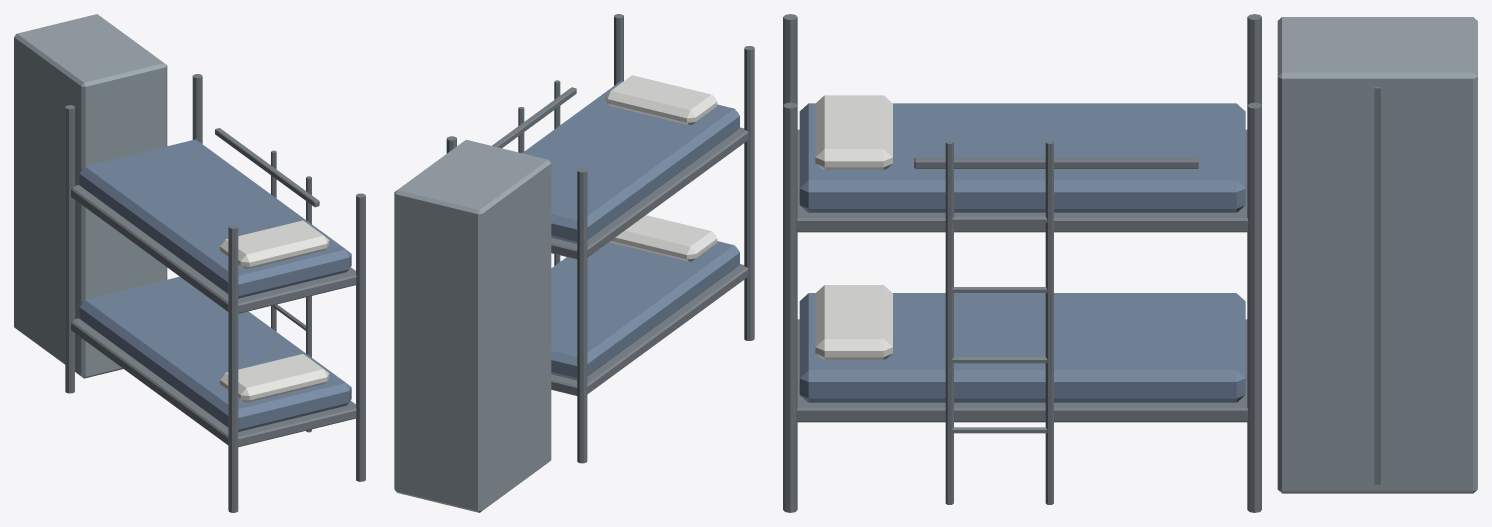
Rendered from ship_bunk_unit.glb.
3 renders of one model, left to right at view 1: azimuth 30°, elevation 25°; view 2: azimuth 150°, elevation 25°; view 3: azimuth 270°, elevation 25°, orthographic. The views are drawn at different scales.
Visible parts, largest first — view 1: Locker, Matt_1.38, Matt_0.46, BedBase_0.46, BedBase_1.38, Post_-0.46_-1.02, Pillow_0.46, Pillow_1.38, Post_0.46_-1.02, Post_-0.46_1.02, GuardRail, Post_0.46_1.02 (+1 smaller); view 2: Locker, Matt_1.38, Matt_0.46, BedBase_1.38, BedBase_0.46, Pillow_1.38, Post_-0.46_1.02, Post_-0.46_-1.02, Pillow_0.46, GuardRail, Post_0.46_-1.02; view 3: Locker, Matt_0.46, Matt_1.38, BedBase_0.46, BedBase_1.38, Post_0.46_-1.02, Post_0.46_1.02, Pillow_0.46, Pillow_1.38, LadR_-0.32, LadR_0.12, GuardRail (+3 smaller).
Boxes of the visible parts, x1=… form: Locker: x1=14, y1=14, x2=167, y2=378; Matt_1.38: x1=79, y1=139, x2=351, y2=298; Matt_0.46: x1=79, y1=276, x2=351, y2=431; BedBase_0.46: x1=71, y1=318, x2=356, y2=447; BedBase_1.38: x1=71, y1=185, x2=356, y2=313; Post_-0.46_-1.02: x1=228, y1=224, x2=238, y2=512; Pillow_0.46: x1=220, y1=354, x2=329, y2=402; Pillow_1.38: x1=220, y1=220, x2=329, y2=269; Post_0.46_-1.02: x1=356, y1=193, x2=365, y2=481; Post_-0.46_1.02: x1=65, y1=105, x2=74, y2=393; GuardRail: x1=215, y1=128, x2=319, y2=207; Post_0.46_1.02: x1=192, y1=74, x2=202, y2=143; Locker: x1=394, y1=139, x2=551, y2=512; Matt_1.38: x1=522, y1=81, x2=739, y2=243; Matt_0.46: x1=551, y1=241, x2=739, y2=380; BedBase_1.38: x1=551, y1=127, x2=748, y2=259; BedBase_0.46: x1=551, y1=264, x2=748, y2=395; Pillow_1.38: x1=605, y1=75, x2=717, y2=124; Post_-0.46_1.02: x1=577, y1=168, x2=587, y2=463; Post_-0.46_-1.02: x1=744, y1=46, x2=754, y2=340; Pillow_0.46: x1=609, y1=215, x2=717, y2=261; GuardRail: x1=492, y1=87, x2=576, y2=148; Post_0.46_-1.02: x1=614, y1=14, x2=623, y2=85; Locker: x1=1277, y1=17, x2=1477, y2=493; Matt_0.46: x1=799, y1=293, x2=1245, y2=402; Matt_1.38: x1=799, y1=103, x2=1245, y2=212; BedBase_0.46: x1=796, y1=319, x2=1248, y2=422; BedBase_1.38: x1=796, y1=129, x2=1248, y2=232; Post_0.46_-1.02: x1=783, y1=102, x2=797, y2=512; Post_0.46_1.02: x1=1247, y1=102, x2=1261, y2=512; Pillow_0.46: x1=815, y1=285, x2=892, y2=359; Pillow_1.38: x1=815, y1=95, x2=892, y2=169; LadR_-0.32: x1=945, y1=141, x2=953, y2=504; LadR_0.12: x1=1045, y1=141, x2=1053, y2=504; GuardRail: x1=914, y1=157, x2=1198, y2=168.
Bounding box in the file's own units: 0.9976 × 2.04 × 3.05.
